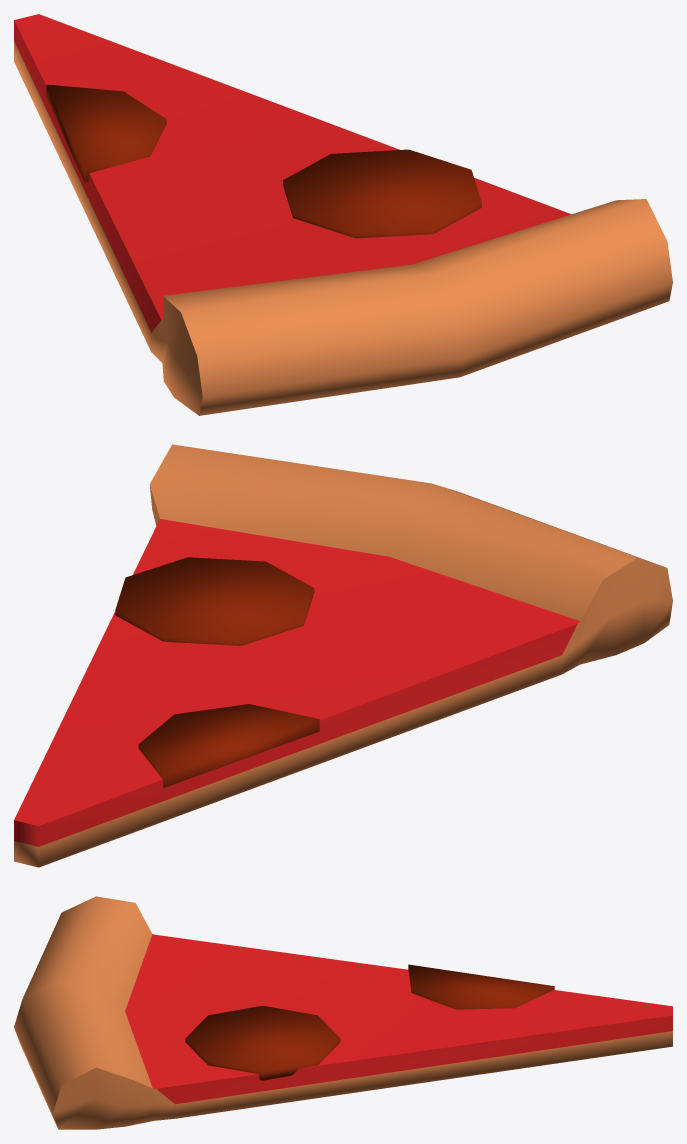
File: props_slice_of_pizza.fbx
3 views of the same model, one above another, from view 1: azimuth 30°, elevation 25°; view 2: azimuth 150°, elevation 25°; view 3: azimuth 270°, elevation 25° (orthographic). The views are drawn at different scales.
Visible parts, largest first — view 1: props_slice_of_pizza; view 2: props_slice_of_pizza; view 3: props_slice_of_pizza.
Part boxes in pixels (left/top/right/bottom): props_slice_of_pizza: left=14, top=14, right=672, bottom=415; props_slice_of_pizza: left=14, top=444, right=672, bottom=867; props_slice_of_pizza: left=14, top=896, right=672, bottom=1129.
Bounding box in the file's own units: 0.529 × 0.8464 × 0.0892.
